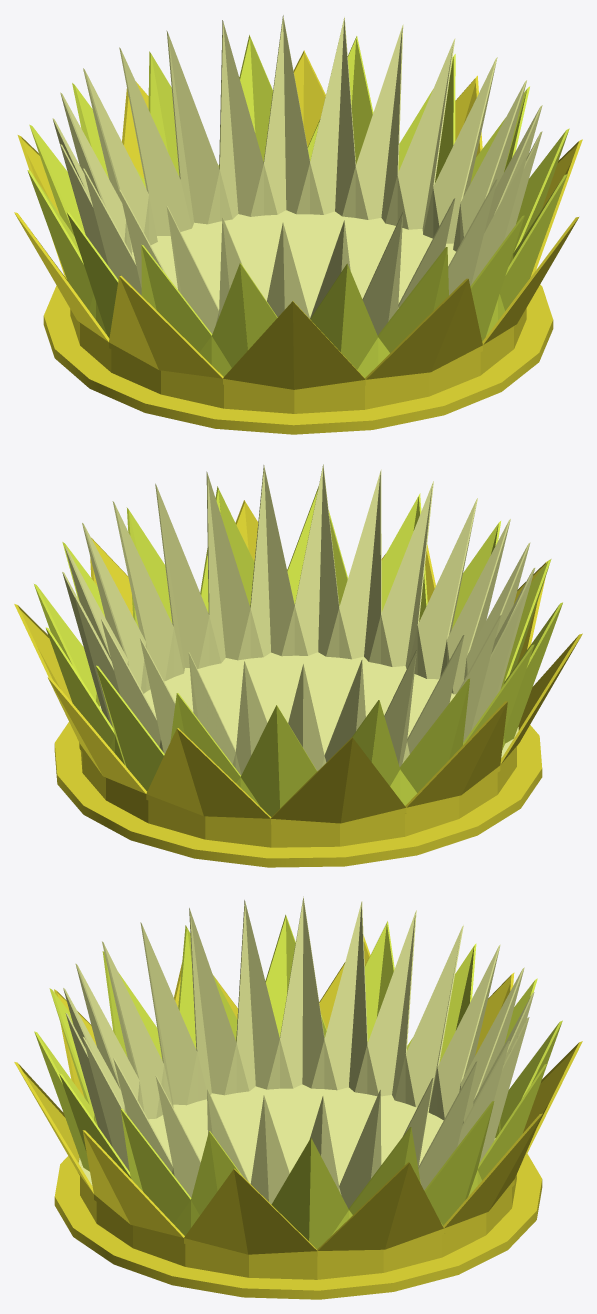
The model's file is portal_000029.obj.
3 renders of one model, top to bottom at view 1: azimuth 30°, elevation 25°; view 2: azimuth 150°, elevation 25°; view 3: azimuth 270°, elevation 25°, orthographic. The views are drawn at different scales.
Parts seen in each view (by area): view 1: Cylinder.001, pCylinder1, Cylinder; view 2: Cylinder.001, pCylinder1, Cylinder; view 3: Cylinder.001, pCylinder1, Cylinder.
Boxes of the visible parts, x1,y1,x2,y2 form: Cylinder.001: [52, 15, 542, 335]; pCylinder1: [14, 50, 582, 434]; Cylinder: [27, 35, 569, 377]; Cylinder.001: [62, 464, 535, 775]; pCylinder1: [14, 500, 582, 867]; Cylinder: [34, 486, 562, 816]; Cylinder.001: [63, 896, 534, 1208]; pCylinder1: [14, 936, 582, 1299]; Cylinder: [34, 914, 562, 1249].
Size of the model in its own units: 7.26 by 2.9 by 7.42.
3 materials, 3 textured.
